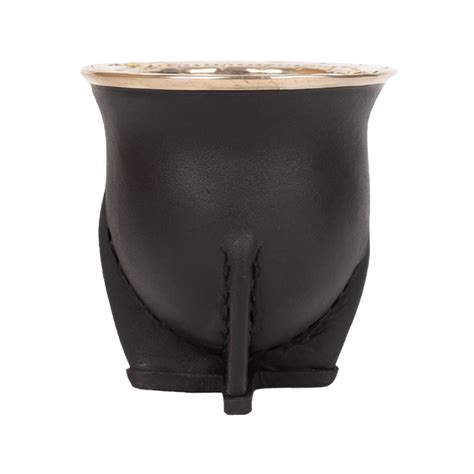cuero: (88, 79, 387, 415)
